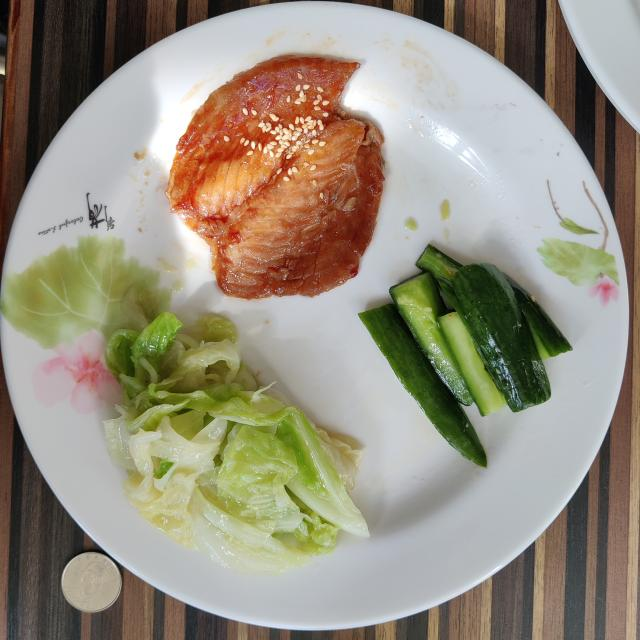Kabayaki sea bream fillet: (166, 55, 384, 299)
cabbage: (104, 312, 369, 575)
coin: (61, 552, 121, 612)
cucumber: (360, 245, 571, 466)
